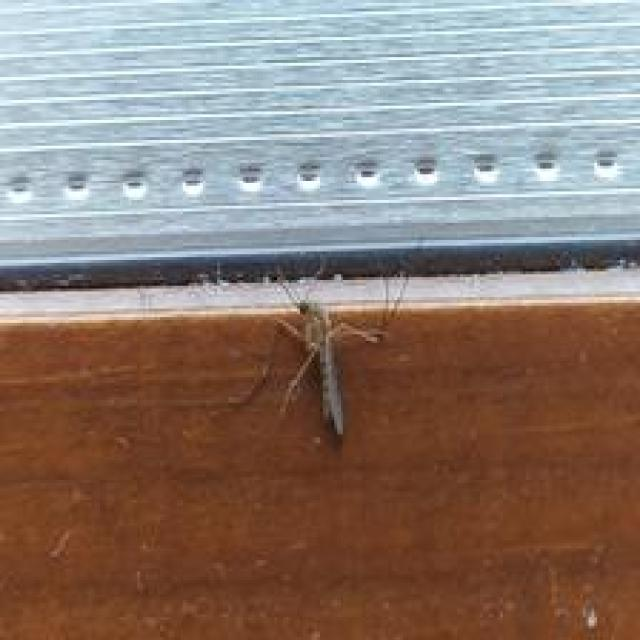Culex: (227, 266, 410, 440)
